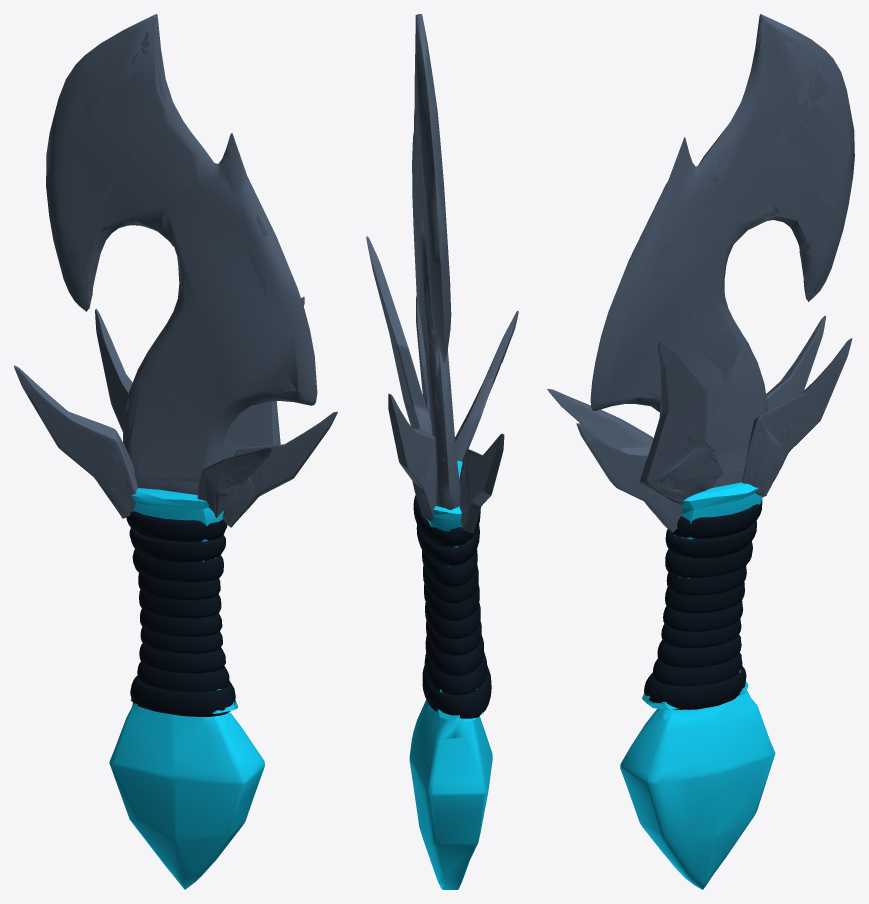
3 renders of one model, left to right at view 1: azimuth 30°, elevation 25°; view 2: azimuth 150°, elevation 25°; view 3: azimuth 270°, elevation 25°, orthographic. The views are drawn at different scales.
Parts seen in each view (by area): view 1: tool_dagger, crystal_bottom, tie, crystal_top, handle_003; view 2: tool_dagger, tie, crystal_top, crystal_bottom, handle_003; view 3: tool_dagger, crystal_top, crystal_bottom, tie, handle_003.
Part boxes in pixels (x1,y1,x2,y2): tool_dagger: (46,14,317,494); crystal_bottom: (109,703,264,889); tie: (126,511,235,716); crystal_top: (14,297,337,527); handle_003: (130,488,238,713); tool_dagger: (412,14,459,509); tie: (413,494,491,718); crystal_top: (366,236,518,533); crystal_bottom: (409,700,492,889); handle_003: (425,460,483,721); tool_dagger: (590,14,854,487); crystal_top: (547,315,852,532); crystal_bottom: (620,690,775,889); tie: (644,499,762,709); handle_003: (642,482,762,709).
Bounding box in the file's own units: 24.74 × 30.58 × 95.62.
